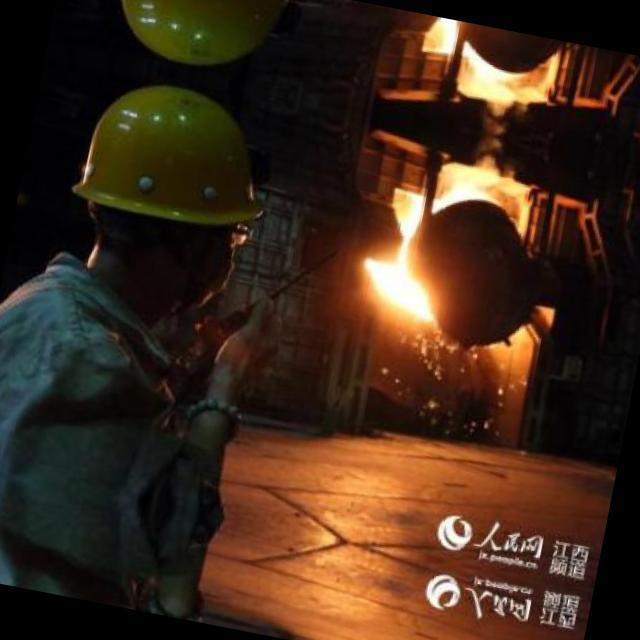helmet: (40, 59, 288, 329), (85, 0, 310, 95)
